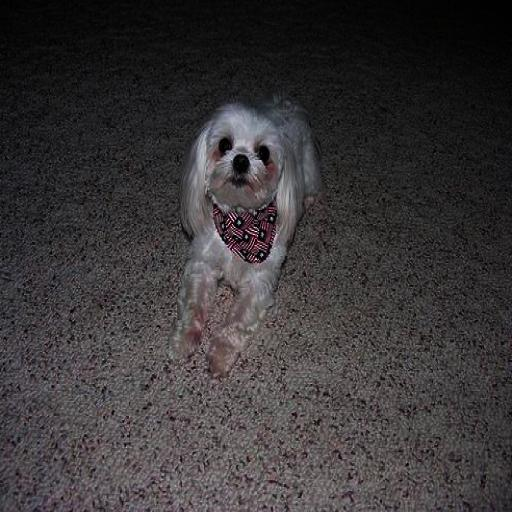dog_face: (205, 104, 298, 223)
